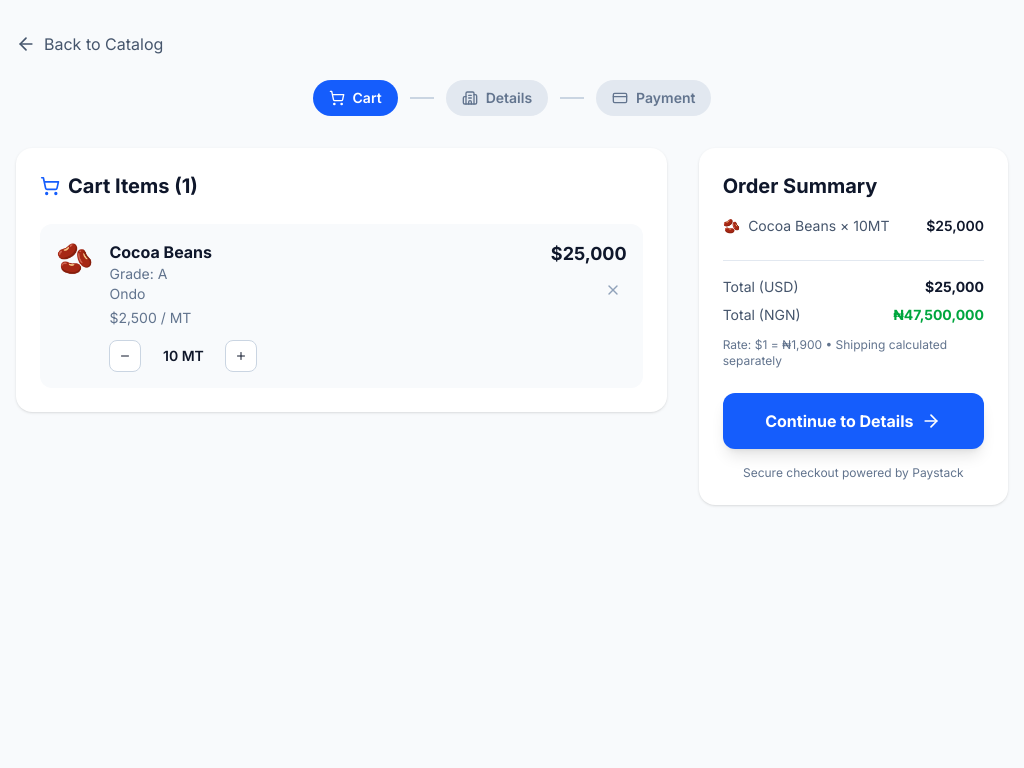
Scenario: #577 — the screen quotes the rate the server charges at › AND THE SECOND PRESS SENDS THE RE-QUOTED TOTAL
Later steps or results of the test are not shown.
Click the button "Continue to Details" at (853, 421), box [723, 393, 984, 449]
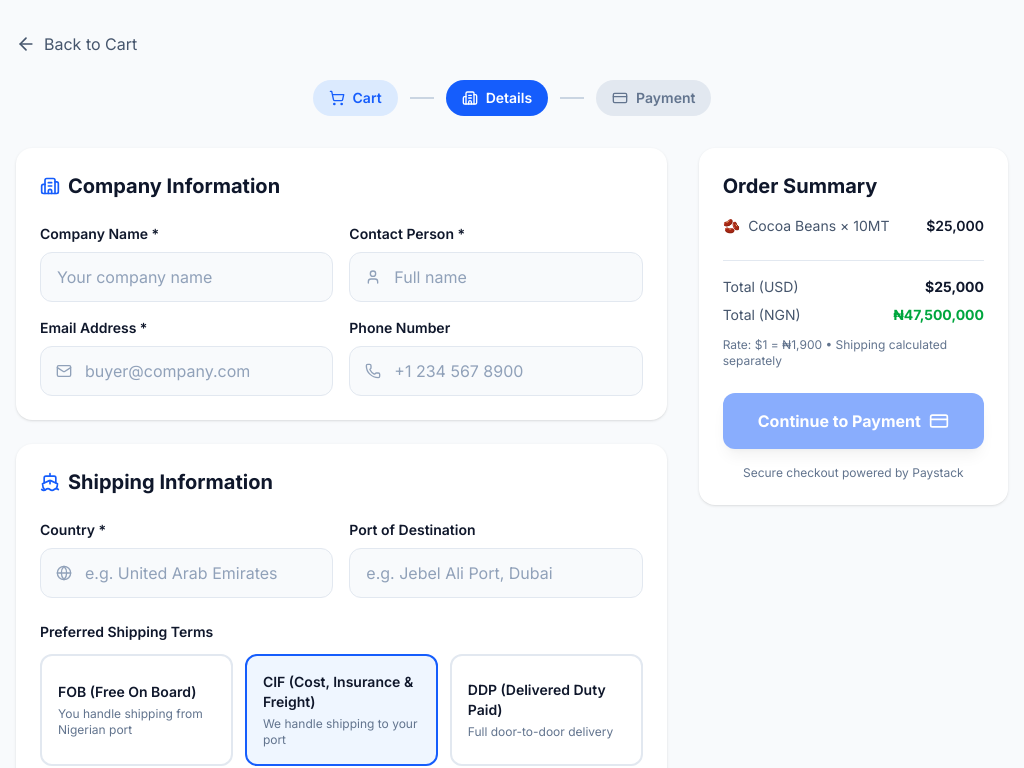
Type "A Co" into the field with placeholder "Your company name" at (187, 277), box [40, 252, 333, 302]
Type "A Person" into the field with placeholder "Full name" at (496, 277), box [349, 252, 643, 302]
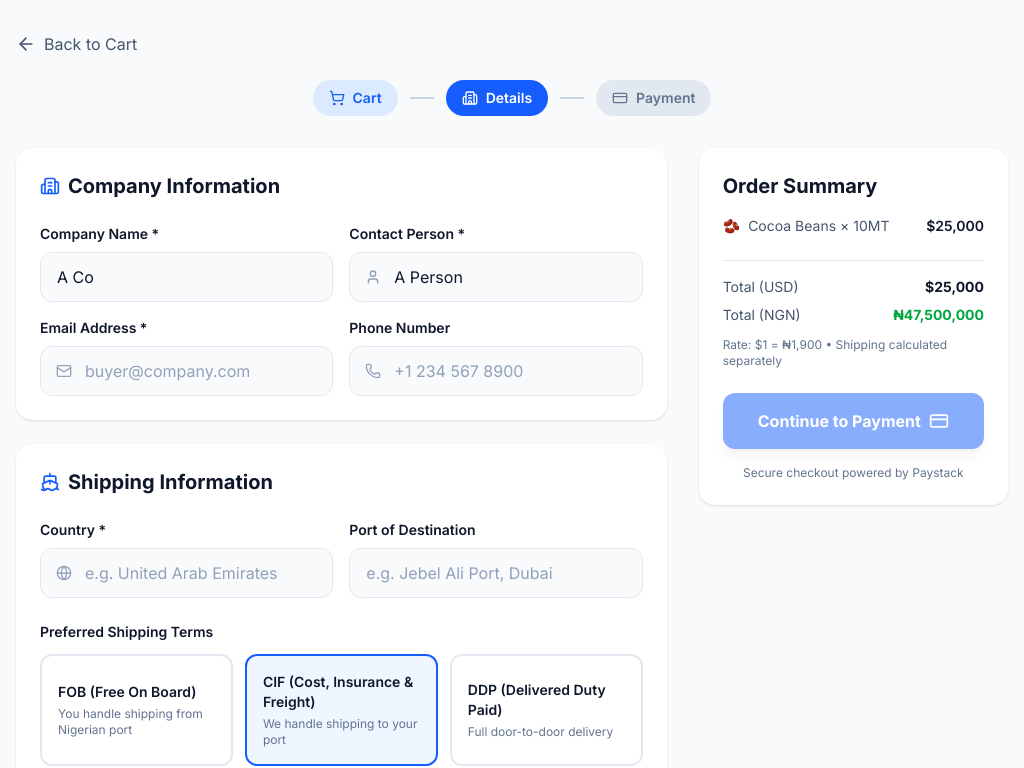
Type "b@e.com" into the field with placeholder "buyer@company.com" at (187, 371), box [40, 346, 333, 396]
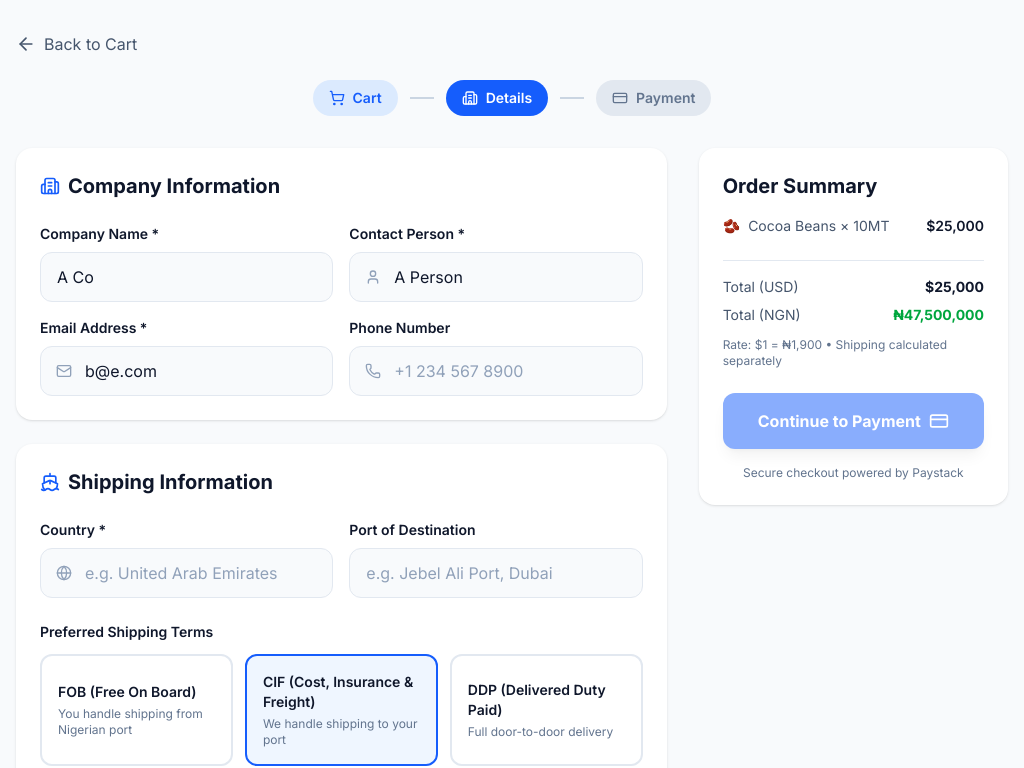
Type "Germany" into the field with placeholder "e.g. United Arab Emirates" at (187, 573), box [40, 548, 333, 598]
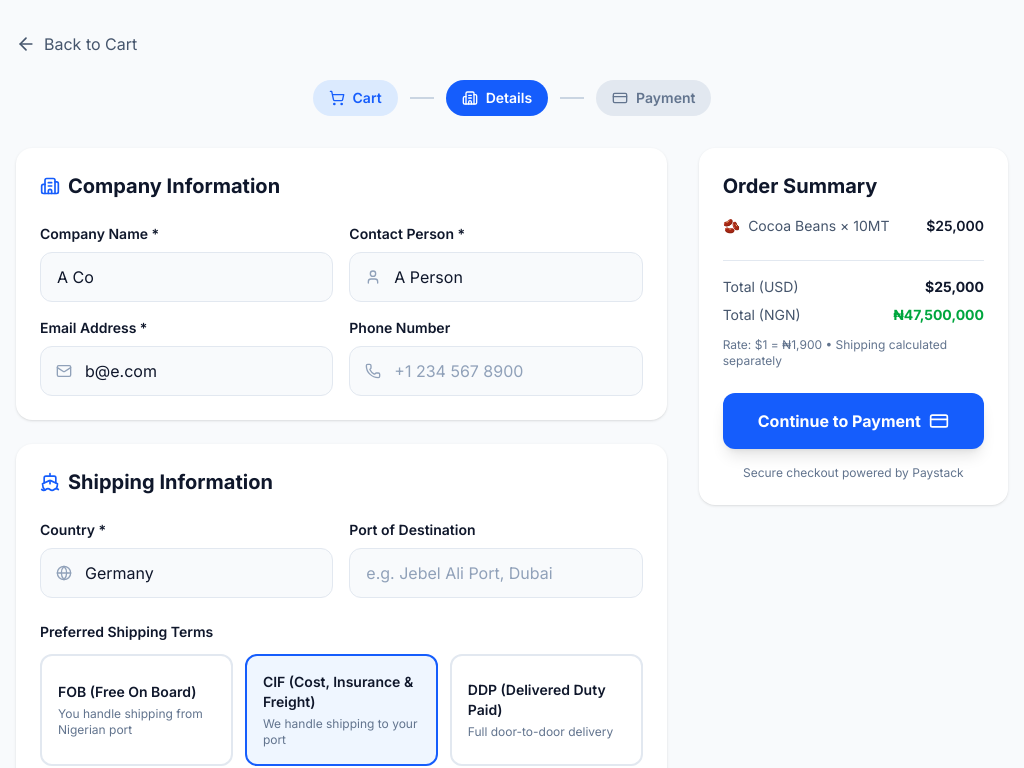
Click the button "Continue to Payment" at (853, 421), box [723, 393, 984, 449]
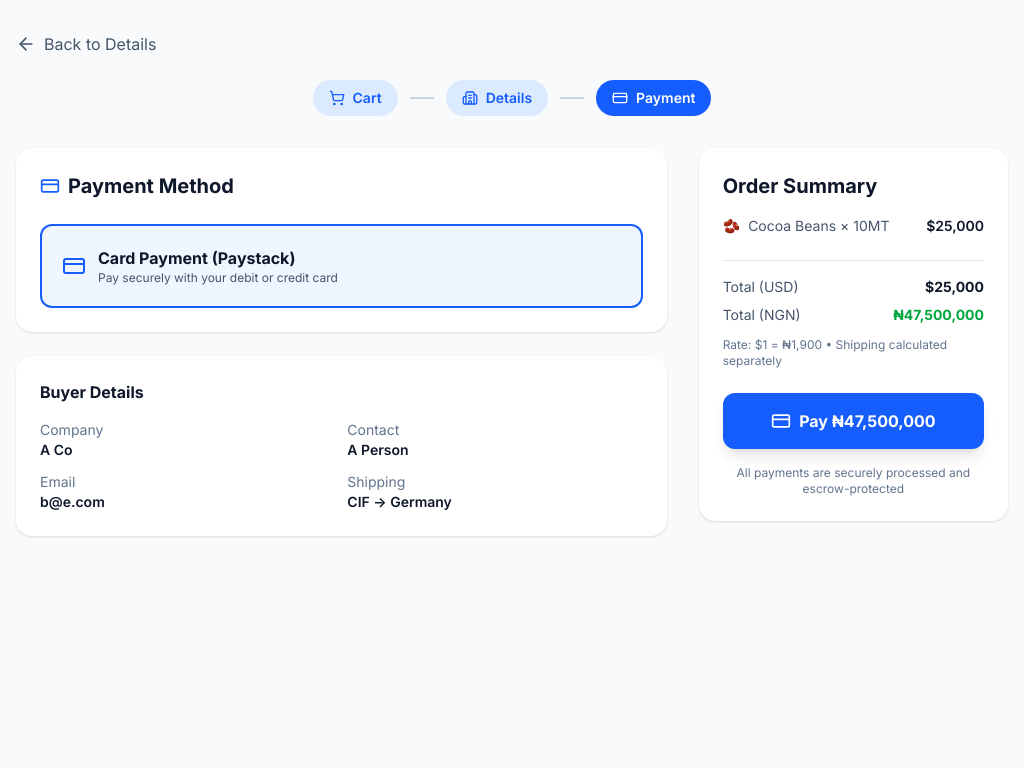
Click the button "Pay ₦47,500,000" at (853, 421), box [723, 393, 984, 449]
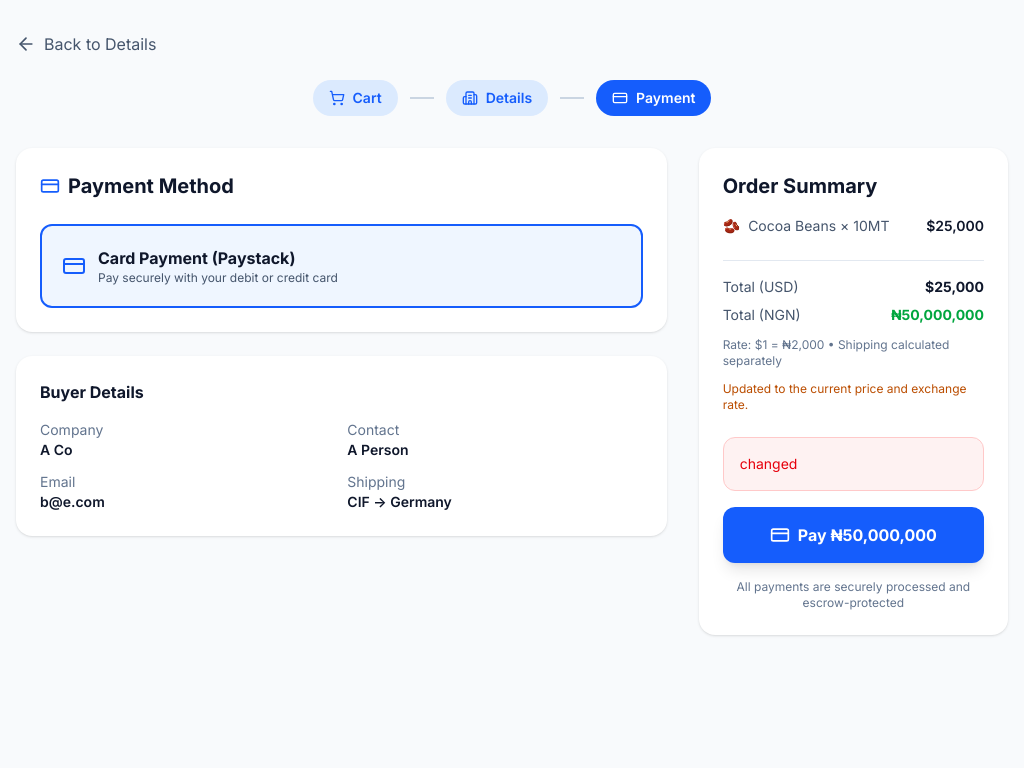
expect the text "₦50,000,000" is shown: met, box [891, 305, 984, 325]
